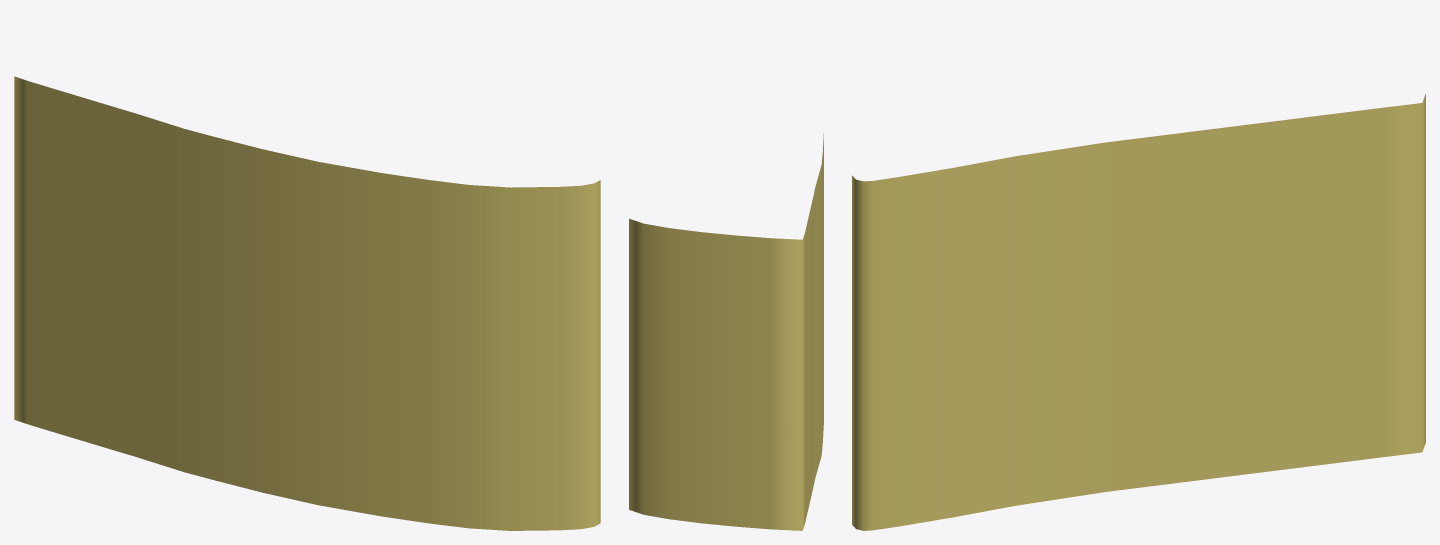
The model's file is cuneate-fasciculus.glb.
The picture shows the model from 3 angles, left to right: view 1: azimuth 30°, elevation 25°; view 2: azimuth 150°, elevation 25°; view 3: azimuth 270°, elevation 25°; orthographic projection. The views are drawn at different scales.
Visible parts, largest first — view 1: Cuneate fasciculus; view 2: Cuneate fasciculus; view 3: Cuneate fasciculus.
Boxes of the visible parts, bbox=[...] form: Cuneate fasciculus: bbox=[14, 76, 600, 530]; Cuneate fasciculus: bbox=[629, 134, 823, 530]; Cuneate fasciculus: bbox=[852, 94, 1425, 530].
Bounding box in the file's own units: 0.00514 × 0.005 × 0.00744.
